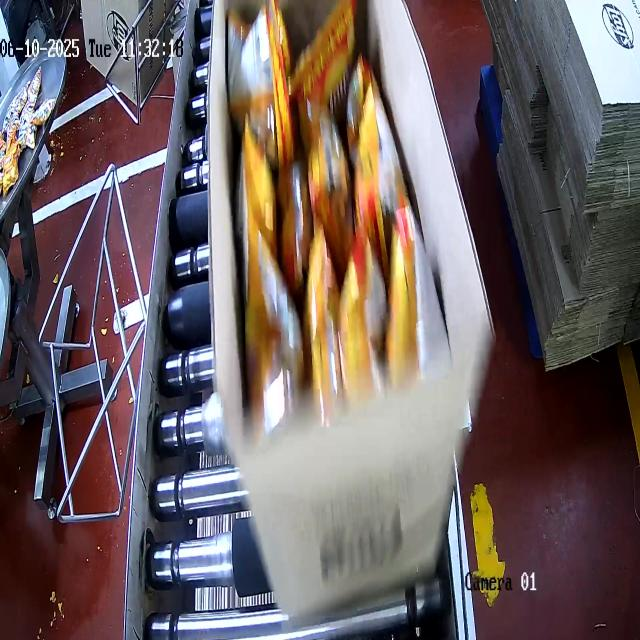FRENCH_CHEESE: (227, 0, 410, 420)
